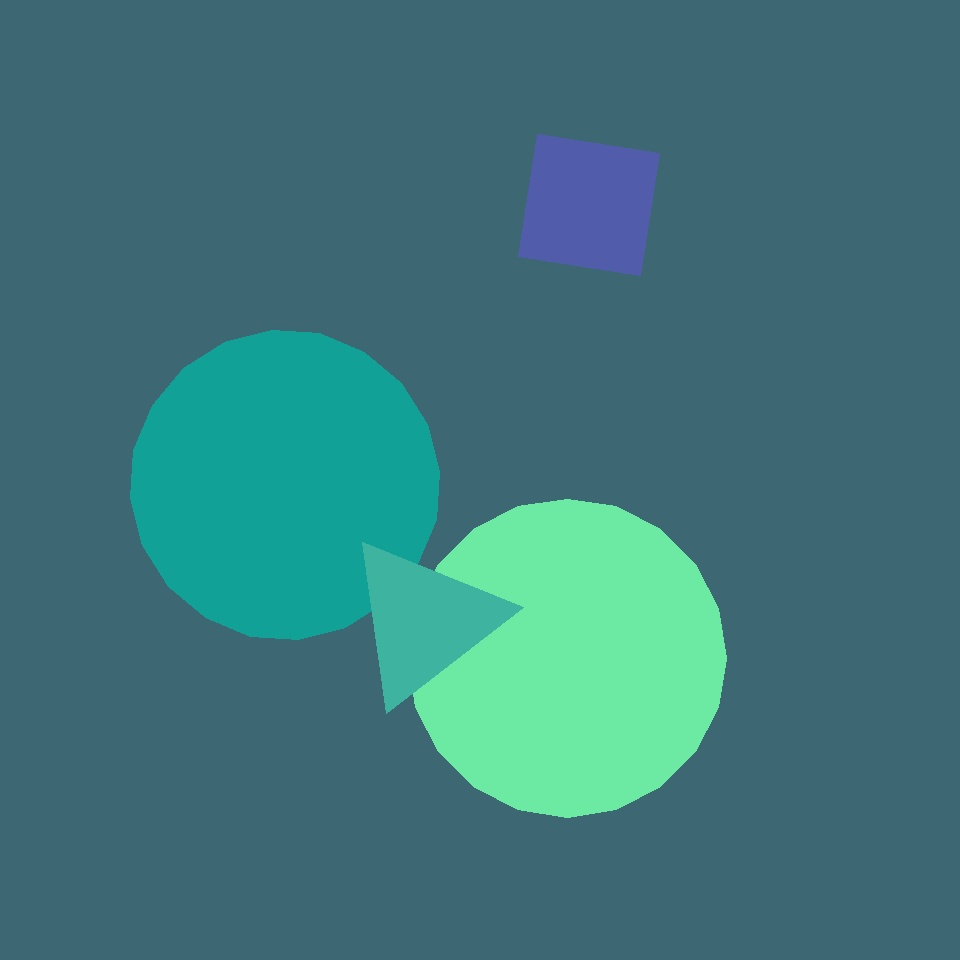circle: (96, 129, 342, 344), (405, 46, 570, 230), (344, 535, 504, 706)
square: (34, 483, 354, 804), (329, 51, 604, 325), (518, 134, 660, 276), (160, 78, 254, 172)
triangle: (408, 499, 726, 817), (130, 330, 440, 640)
